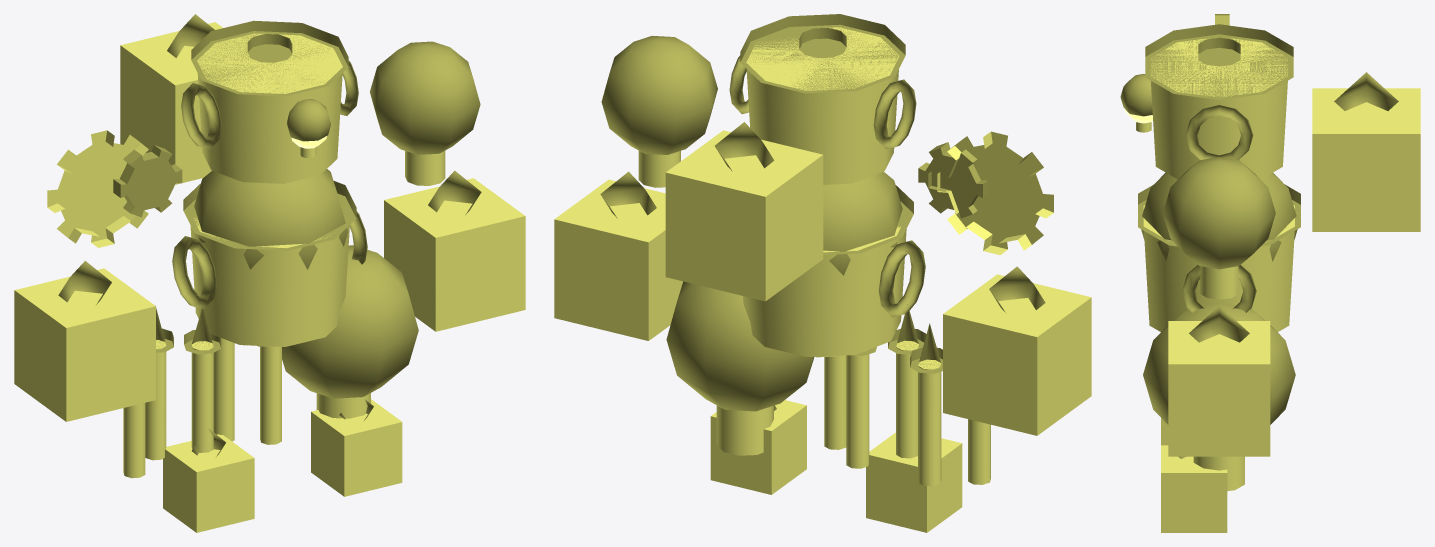
The model's file is golem_040.glb.
The picture shows the model from 3 angles, left to right: view 1: azimuth 30°, elevation 25°; view 2: azimuth 150°, elevation 25°; view 3: azimuth 270°, elevation 25°; orthographic projection. The views are drawn at different scales.
Parts seen in each view (by area): view 1: Body, Detail; view 2: Body, Detail; view 3: Body, Detail.
Part boxes in pixels (left/top/right/bottom): Body: left=14, top=22, right=525, bottom=532; Detail: left=58, top=14, right=481, bottom=456; Body: left=554, top=27, right=1091, bottom=532; Detail: left=600, top=14, right=1045, bottom=411; Body: left=1136, top=14, right=1420, bottom=532; Detail: left=1120, top=24, right=1398, bottom=458.
Bounding box in the file's own units: 1.52 × 1.4 × 0.871.
